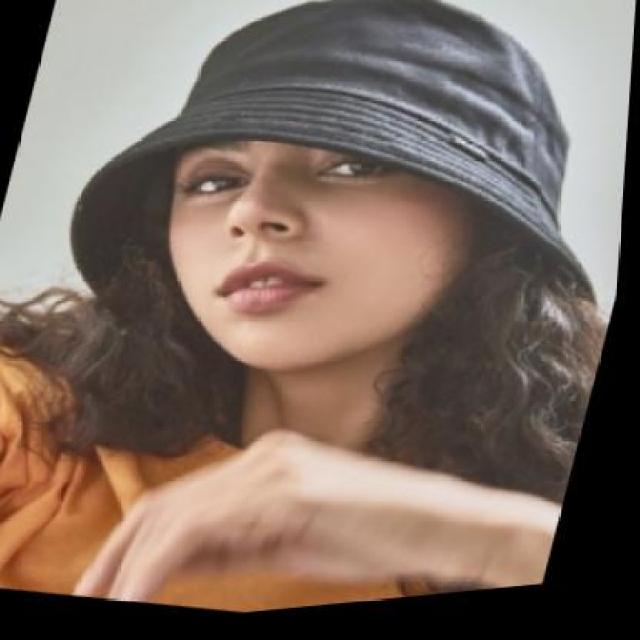hat: (34, 0, 640, 414)
